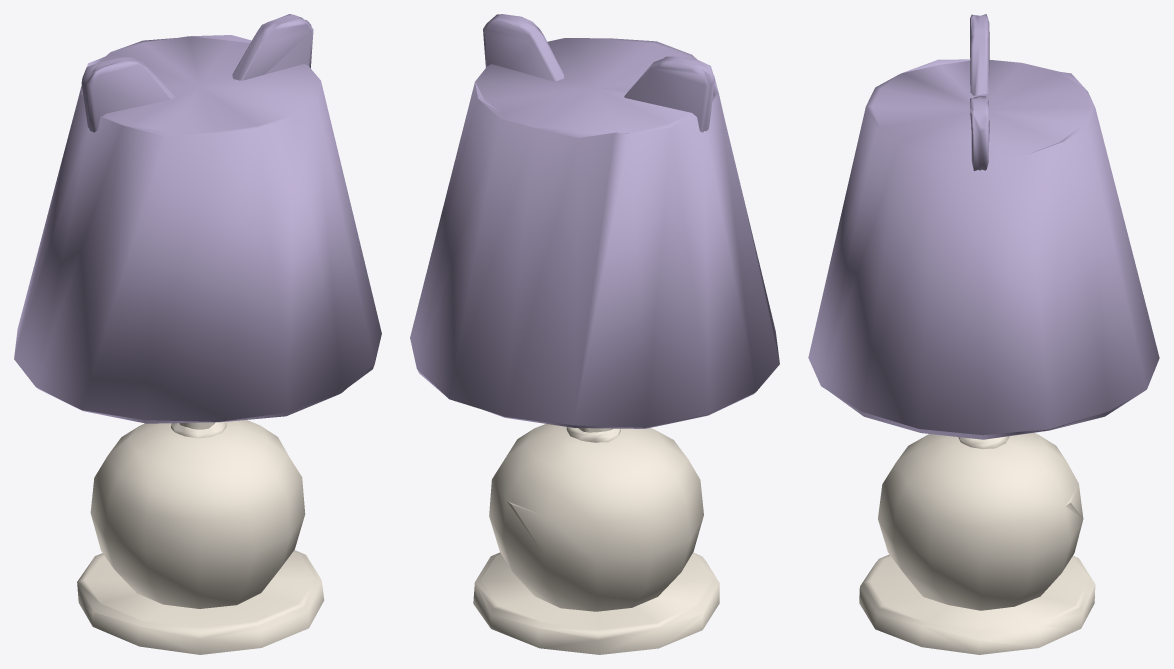
Rendered from bedroom_table_lamp.glb.
The picture shows the model from 3 angles, left to right: view 1: azimuth 30°, elevation 25°; view 2: azimuth 150°, elevation 25°; view 3: azimuth 270°, elevation 25°; orthographic projection. The views are drawn at different scales.
Bounding box in the file's own units: 0.39 × 0.6453 × 0.3796.
